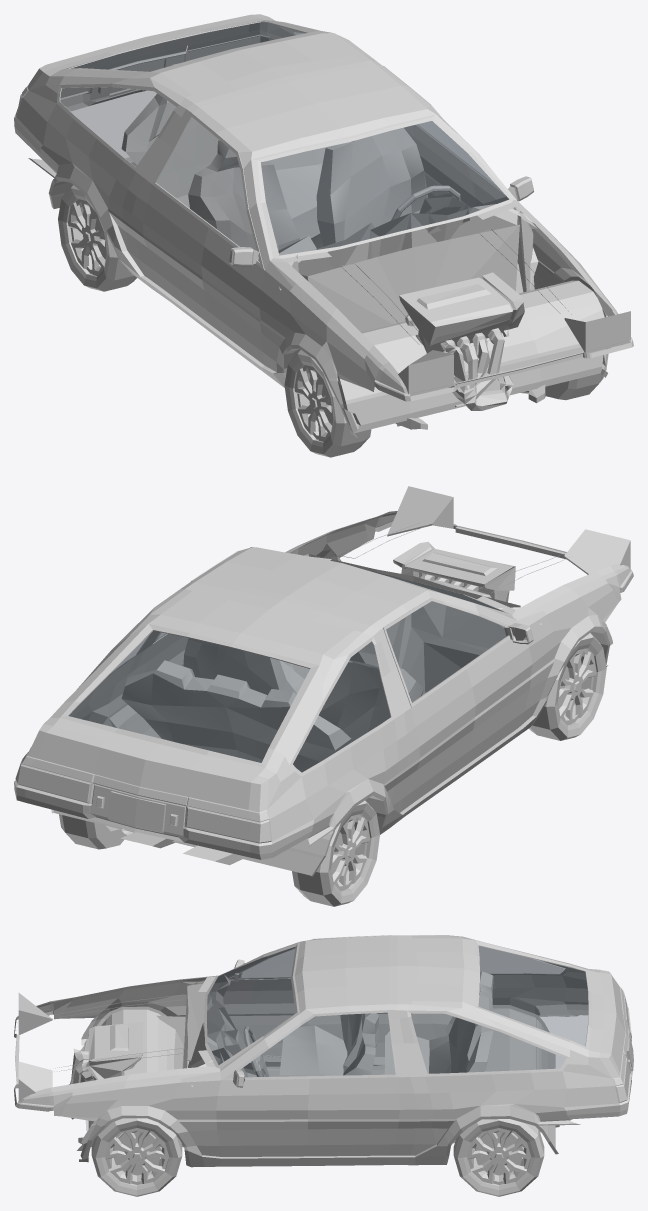
Rendered from Sports_02_Base.glb.
3 renders of one model, top to bottom at view 1: azimuth 30°, elevation 25°; view 2: azimuth 150°, elevation 25°; view 3: azimuth 270°, elevation 25°, orthographic. The views are drawn at different scales.
Parts seen in each view (by area): view 1: SM_Veh_Sports_02, SM_Veh_Sports_02_Glass, SM_Veh_Sports_02_Door_R, SM_Veh_Sports_02_Seats_01_Front, SM_Veh_Sports_02_Seats_01_Rear, SM_Veh_Sports_02_Boot, SM_Veh_Sports_02_Wheel_fr, SM_Veh_Sports_02_Wheel_rr, SM_Veh_Sports_02_Door_L, SM_Veh_Sports_02_Boot_Glass, SM_Veh_Sports_02_Wheel_fl; view 2: SM_Veh_Sports_02, SM_Veh_Sports_02_Boot, SM_Veh_Sports_02_Door_R, SM_Veh_Sports_02_Boot_Glass, SM_Veh_Sports_02_Seats_01_Rear, SM_Veh_Sports_02_Seats_01_Front, SM_Veh_Sports_02_Glass, SM_Veh_Sports_02_Wheel_rr, SM_Veh_Sports_02_Wheel_fr, SM_Veh_Sports_02_Wheel_rl, SM_Veh_Sports_02_Door_L; view 3: SM_Veh_Sports_02, SM_Veh_Sports_02_Door_L, SM_Veh_Sports_02_Glass, SM_Veh_Sports_02_Boot_Glass, SM_Veh_Sports_02_Boot, SM_Veh_Sports_02_Door_R, SM_Veh_Sports_02_Wheel_rl, SM_Veh_Sports_02_Wheel_fl, SM_Veh_Sports_02_Seats_01_Front, SM_Veh_Sports_02_Seats_01_Rear, SM_Veh_Sports_02_SteeringW.
Boxes of the visible parts, box(x1,y1,x2,y2) form: SM_Veh_Sports_02: box(14, 21, 633, 437); SM_Veh_Sports_02_Glass: box(60, 32, 508, 255); SM_Veh_Sports_02_Door_R: box(142, 117, 292, 387); SM_Veh_Sports_02_Seats_01_Front: box(188, 127, 427, 250); SM_Veh_Sports_02_Seats_01_Rear: box(121, 94, 326, 248); SM_Veh_Sports_02_Boot: box(14, 14, 319, 135); SM_Veh_Sports_02_Wheel_fr: box(284, 349, 371, 457); SM_Veh_Sports_02_Wheel_rr: box(58, 185, 136, 291); SM_Veh_Sports_02_Door_L: box(412, 121, 554, 289); SM_Veh_Sports_02_Boot_Glass: box(74, 22, 304, 71); SM_Veh_Sports_02_Wheel_fl: box(545, 373, 603, 400); SM_Veh_Sports_02: box(14, 486, 633, 876); SM_Veh_Sports_02_Boot: box(14, 623, 346, 859); SM_Veh_Sports_02_Door_R: box(386, 601, 554, 822); SM_Veh_Sports_02_Boot_Glass: box(69, 631, 309, 762); SM_Veh_Sports_02_Seats_01_Rear: box(121, 660, 350, 772); SM_Veh_Sports_02_Seats_01_Front: box(183, 638, 423, 744); SM_Veh_Sports_02_Glass: box(111, 571, 506, 771); SM_Veh_Sports_02_Wheel_rr: box(292, 800, 379, 906); SM_Veh_Sports_02_Wheel_fr: box(529, 633, 606, 740); SM_Veh_Sports_02_Wheel_rl: box(59, 814, 126, 849); SM_Veh_Sports_02_Door_L: box(143, 633, 188, 738); SM_Veh_Sports_02: box(14, 935, 632, 1167); SM_Veh_Sports_02_Door_L: box(174, 1013, 413, 1166); SM_Veh_Sports_02_Glass: box(207, 947, 565, 1073); SM_Veh_Sports_02_Boot_Glass: box(479, 946, 587, 1045); SM_Veh_Sports_02_Boot: box(475, 940, 633, 1106); SM_Veh_Sports_02_Door_R: box(174, 949, 389, 1070); SM_Veh_Sports_02_Wheel_rl: box(453, 1119, 544, 1196); SM_Veh_Sports_02_Wheel_fl: box(91, 1118, 182, 1196); SM_Veh_Sports_02_Seats_01_Front: box(279, 1013, 379, 1076); SM_Veh_Sports_02_Seats_01_Rear: box(384, 971, 493, 1074); SM_Veh_Sports_02_SteeringW: box(243, 1026, 268, 1076).
Size of the model in its own units: 1.98 by 1.41 by 4.4.
